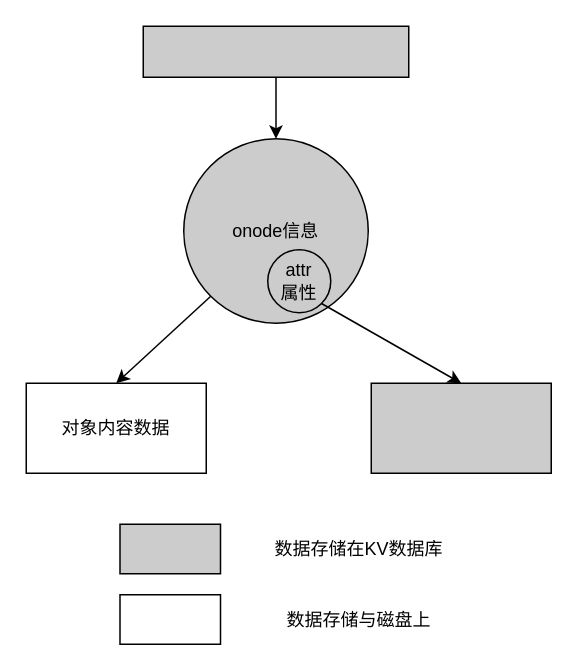
Some shapes in this 578 by 671 pixel diagram are drawn without their labels. Each missing label, with the centre of its shape:
"RADOS对象编码生成的Key" belongs at [275,51].
"对象OMAP数据" belongs at [460,427].
